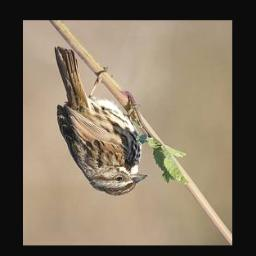Sparrow: (53, 46, 150, 199)
